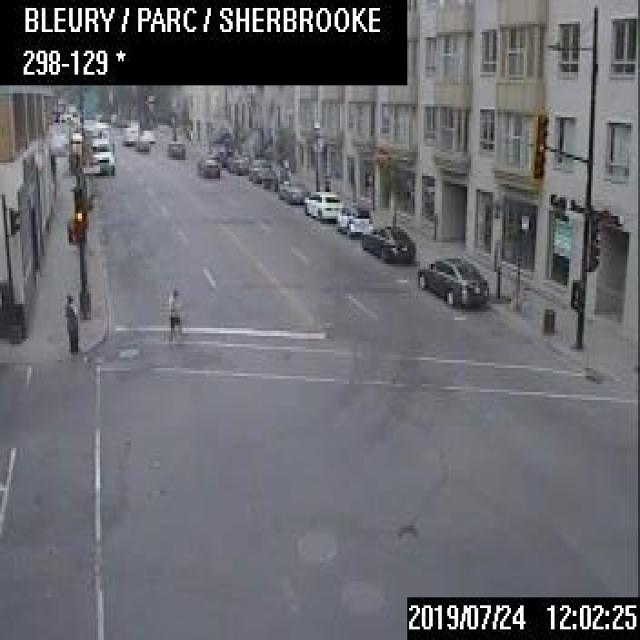pedestrian: (165, 285, 182, 344), (62, 291, 76, 352)
vehicle: (415, 254, 487, 307), (360, 223, 414, 261), (83, 121, 113, 174), (336, 200, 371, 235), (302, 189, 341, 220), (259, 165, 289, 190), (277, 178, 306, 203), (247, 157, 270, 181), (195, 154, 218, 177), (225, 152, 247, 174), (121, 125, 136, 144), (169, 142, 184, 158), (133, 134, 148, 150), (140, 127, 154, 141)
